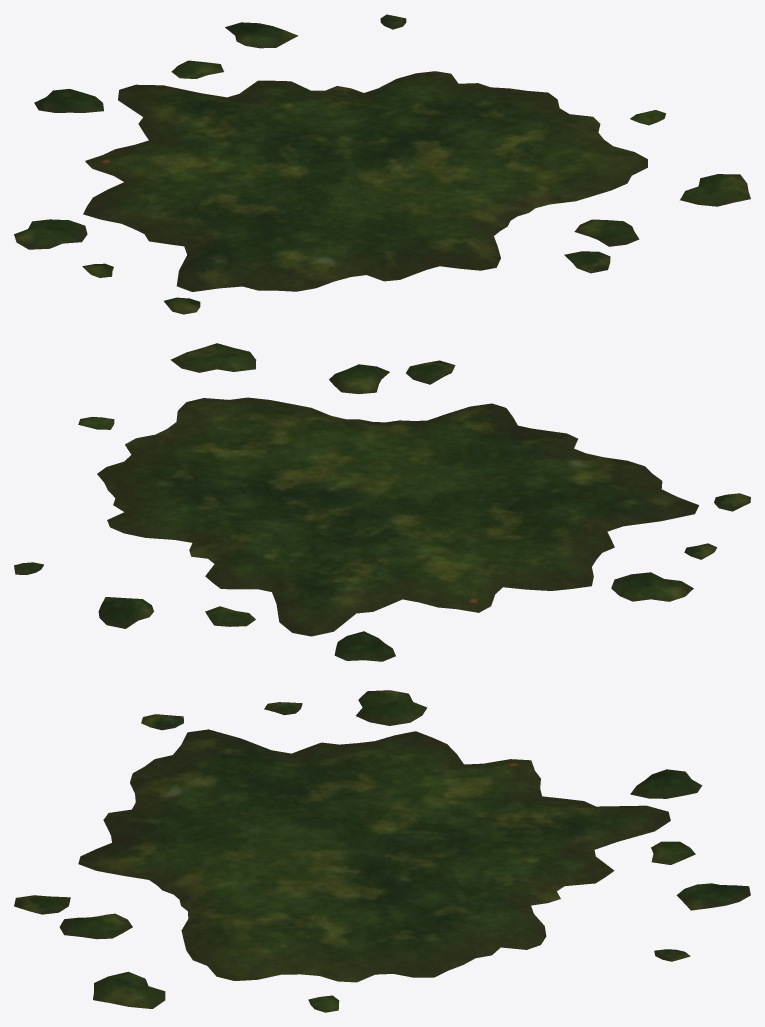
Rendered from decal_moss.glb.
The picture shows the model from 3 angles, top to bottom: view 1: azimuth 30°, elevation 25°; view 2: azimuth 150°, elevation 25°; view 3: azimuth 270°, elevation 25°; orthographic projection. The views are drawn at different scales.
Parts seen in each view (by area): view 1: decal_moss; view 2: decal_moss; view 3: decal_moss.
Part boxes in pixels (x1,y1,x2,y2): decal_moss: (14, 14, 750, 314); decal_moss: (14, 343, 750, 661); decal_moss: (14, 690, 750, 1012).
Size of the model in its own units: 1.74 by 0.015 by 1.68.
1 material, 1 textured.
